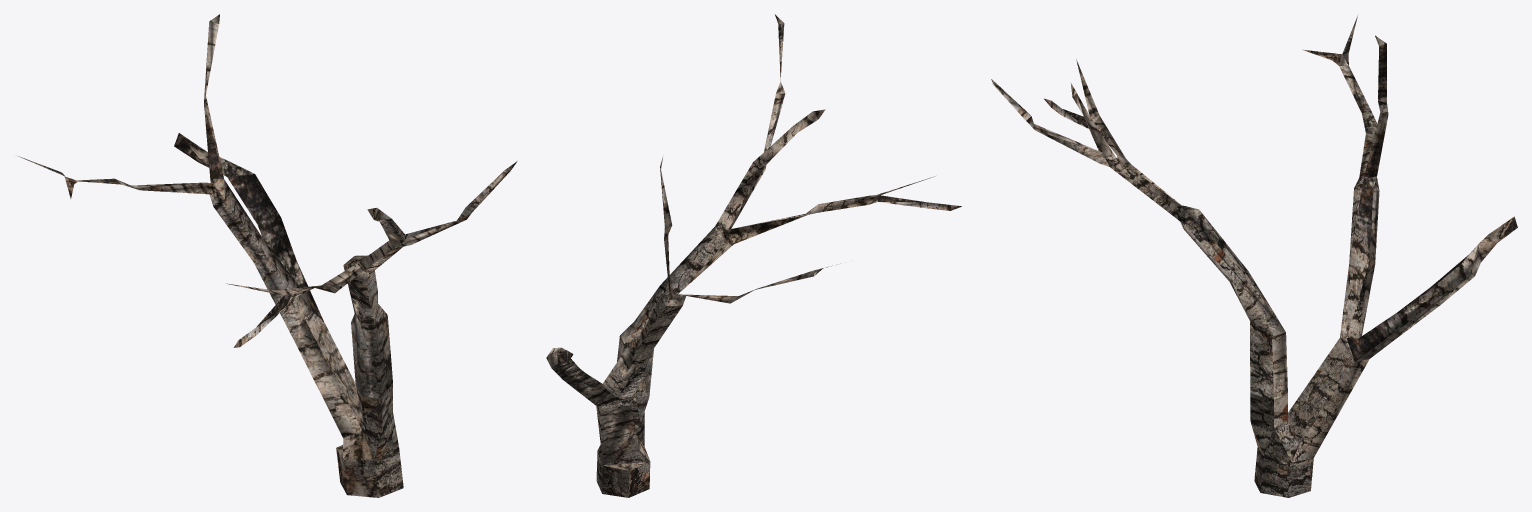
The model's file is bush_LOD2.FBX.
The picture shows the model from 3 angles, left to right: view 1: azimuth 30°, elevation 25°; view 2: azimuth 150°, elevation 25°; view 3: azimuth 270°, elevation 25°; orthographic projection. The views are drawn at different scales.
Parts seen in each view (by area): view 1: lambert2SG_002; view 2: lambert2SG_002; view 3: lambert2SG_002.
Boxes of the visible parts, x1,y1,x2,y2 form: lambert2SG_002: (18,14,517,497); lambert2SG_002: (546,14,961,497); lambert2SG_002: (991,15,1517,497).
Size of the model in its own units: 5.91 by 7.55 by 8.82.
1 material, 1 textured.
